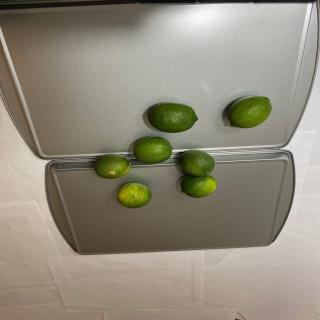Lemon: (147, 102, 198, 133), (227, 95, 272, 129), (133, 136, 173, 164), (116, 182, 152, 209), (94, 153, 130, 180), (179, 149, 215, 176), (180, 174, 216, 198)
